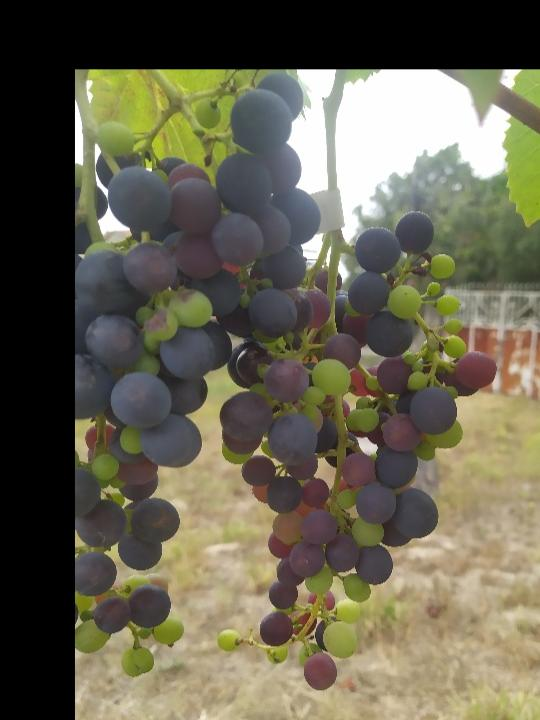grape: (75, 74, 324, 679), (215, 205, 501, 694)
